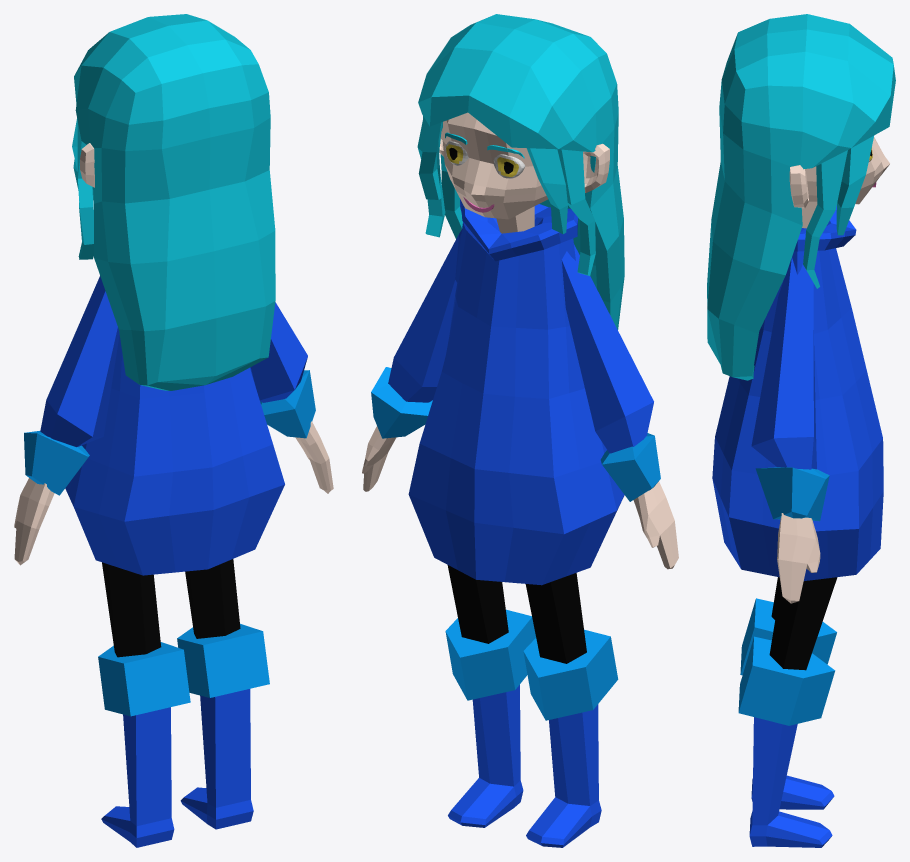
The model's file is cilvecins.fbx.
The picture shows the model from 3 angles, left to right: view 1: azimuth 30°, elevation 25°; view 2: azimuth 150°, elevation 25°; view 3: azimuth 270°, elevation 25°; orthographic projection.
Parts seen in each view (by area): view 1: Cube.003, Cube, Cylinder.008, Cylinder.006, Cylinder, Cylinder.007, Cylinder.005, Cylinder.001; view 2: Cube, Cube.003, Cylinder.006, Cylinder.008, Cylinder, Cylinder.007, Cube.001, Cylinder.005, Cylinder.001, Cube.002, Cylinder.002; view 3: Cube.003, Cube, Cylinder.006, Cylinder, Cylinder.008, Cylinder.007, Cylinder.005, Cylinder.001, Cube.001, Cube.002.
Part boxes in pixels (left/top/right/bottom): Cube.003: left=72, top=14, right=275, bottom=390; Cube: left=65, top=335, right=284, bottom=575; Cylinder.008: left=101, top=689, right=253, bottom=847; Cylinder.006: left=40, top=276, right=307, bottom=447; Cylinder: left=98, top=623, right=269, bottom=716; Cylinder.007: left=102, top=559, right=240, bottom=657; Cylinder.005: left=24, top=370, right=315, bottom=495; Cylinder.001: left=14, top=421, right=333, bottom=565; Cube: left=408, top=199, right=624, bottom=585; Cube.003: left=417, top=14, right=624, bottom=329; Cylinder.006: left=388, top=226, right=653, bottom=453; Cylinder.008: left=448, top=685, right=601, bottom=847; Cylinder: left=445, top=609, right=618, bottom=720; Cylinder.007: left=447, top=565, right=586, bottom=663; Cube.001: left=442, top=112, right=547, bottom=219; Cylinder.005: left=371, top=367, right=660, bottom=501; Cylinder.001: left=362, top=426, right=678, bottom=569; Cube.002: left=439, top=128, right=609, bottom=192; Cylinder.002: left=496, top=206, right=534, bottom=233; Cube.003: left=707, top=14, right=895, bottom=380; Cube: left=712, top=205, right=883, bottom=580; Cylinder.006: left=751, top=258, right=816, bottom=469; Cylinder: left=738, top=598, right=836, bottom=725; Cylinder.008: left=749, top=717, right=834, bottom=847; Cylinder.007: left=769, top=577, right=837, bottom=670; Cylinder.005: left=755, top=467, right=829, bottom=521; Cylinder.001: left=777, top=513, right=820, bottom=603; Cube.001: left=805, top=137, right=889, bottom=204; Cube.002: left=789, top=165, right=808, bottom=208.
Bounding box in the file's own units: 0.1536 × 0.3762 × 0.0814.
